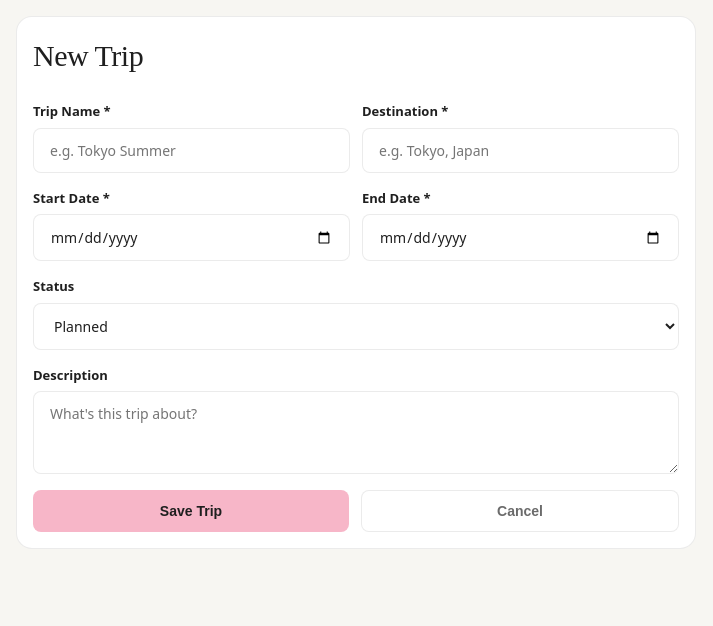
NewTrip (validation) › should show an error and not submit when the required fields (dates) are missing
In the field with placeholder "e.g. Tokyo Summer": (192,150) x1=33 y1=128 x2=350 y2=172, type "Tokyo Summer"
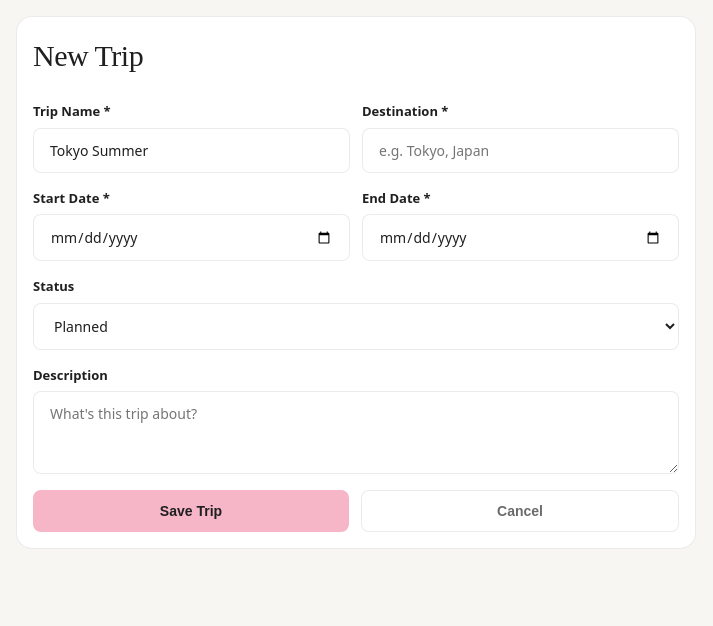
In the field with placeholder "e.g. Tokyo, Japan": (520,150) x1=362 y1=128 x2=679 y2=172, type "Tokyo, Japan"
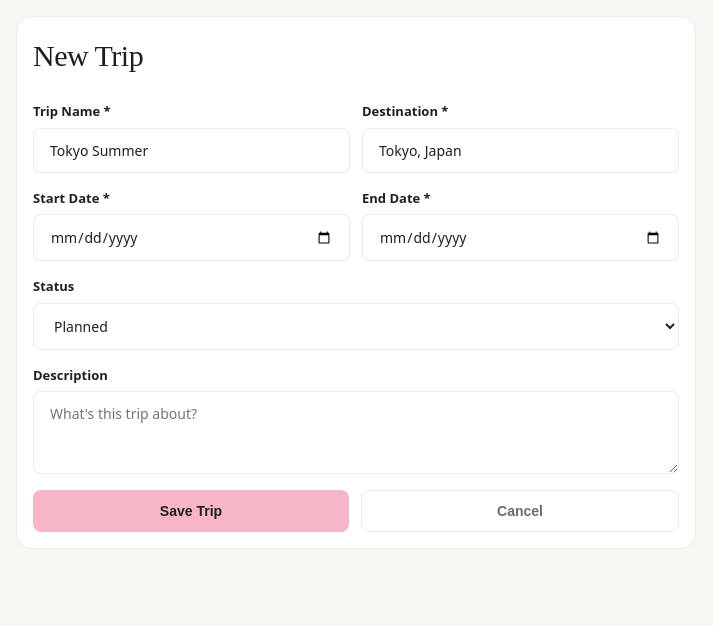
Click the button "Save Trip": (191,511) x1=33 y1=490 x2=349 y2=532
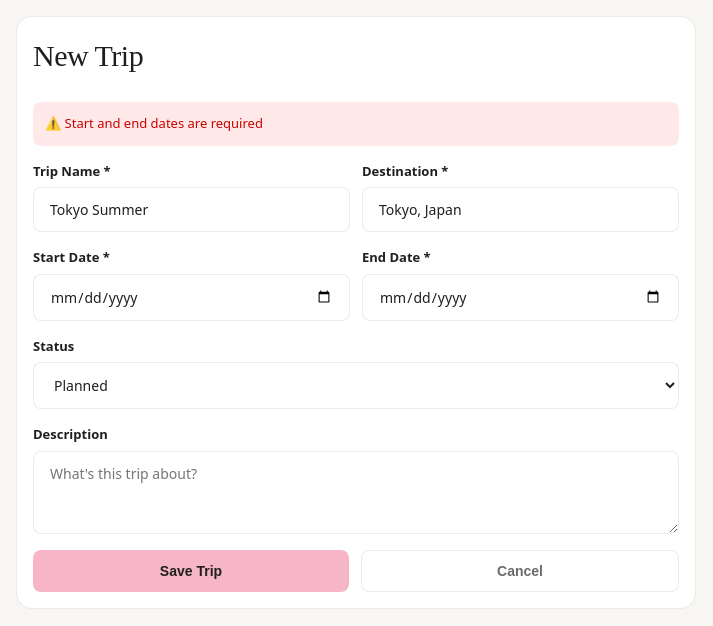
expect the text with class "error-message" shows "Start and end dates are required": met, box x1=45 y1=114 x2=263 y2=132
